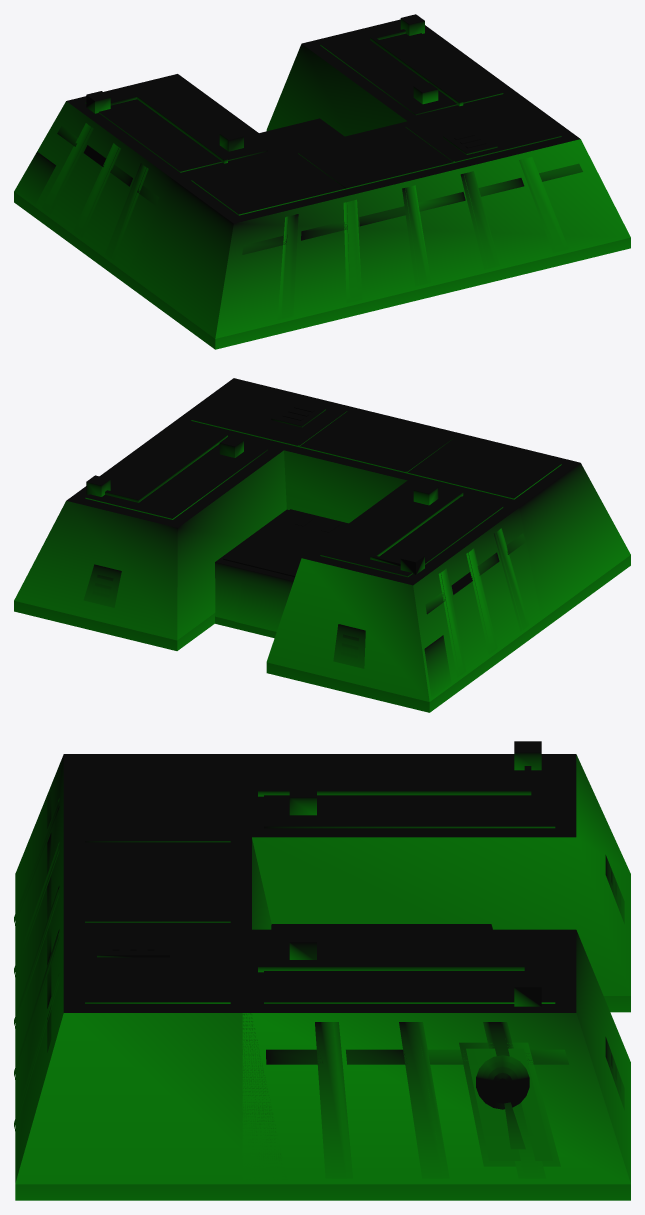
The model's file is hpgoutbldg.glb.
3 views of the same model, one above another, from view 1: azimuth 30°, elevation 25°; view 2: azimuth 150°, elevation 25°; view 3: azimuth 270°, elevation 25° (orthographic). The views are drawn at different scales.
Visible parts, largest first — view 1: lod0; view 2: lod0; view 3: lod0.
Part boxes in pixels (x1,y1,x2,y2): lod0: (14,14,630,349); lod0: (14,378,630,712); lod0: (14,741,630,1200).
Size of what is drawn, in the model's own units: 24.27 by 6.6 by 20.34.
